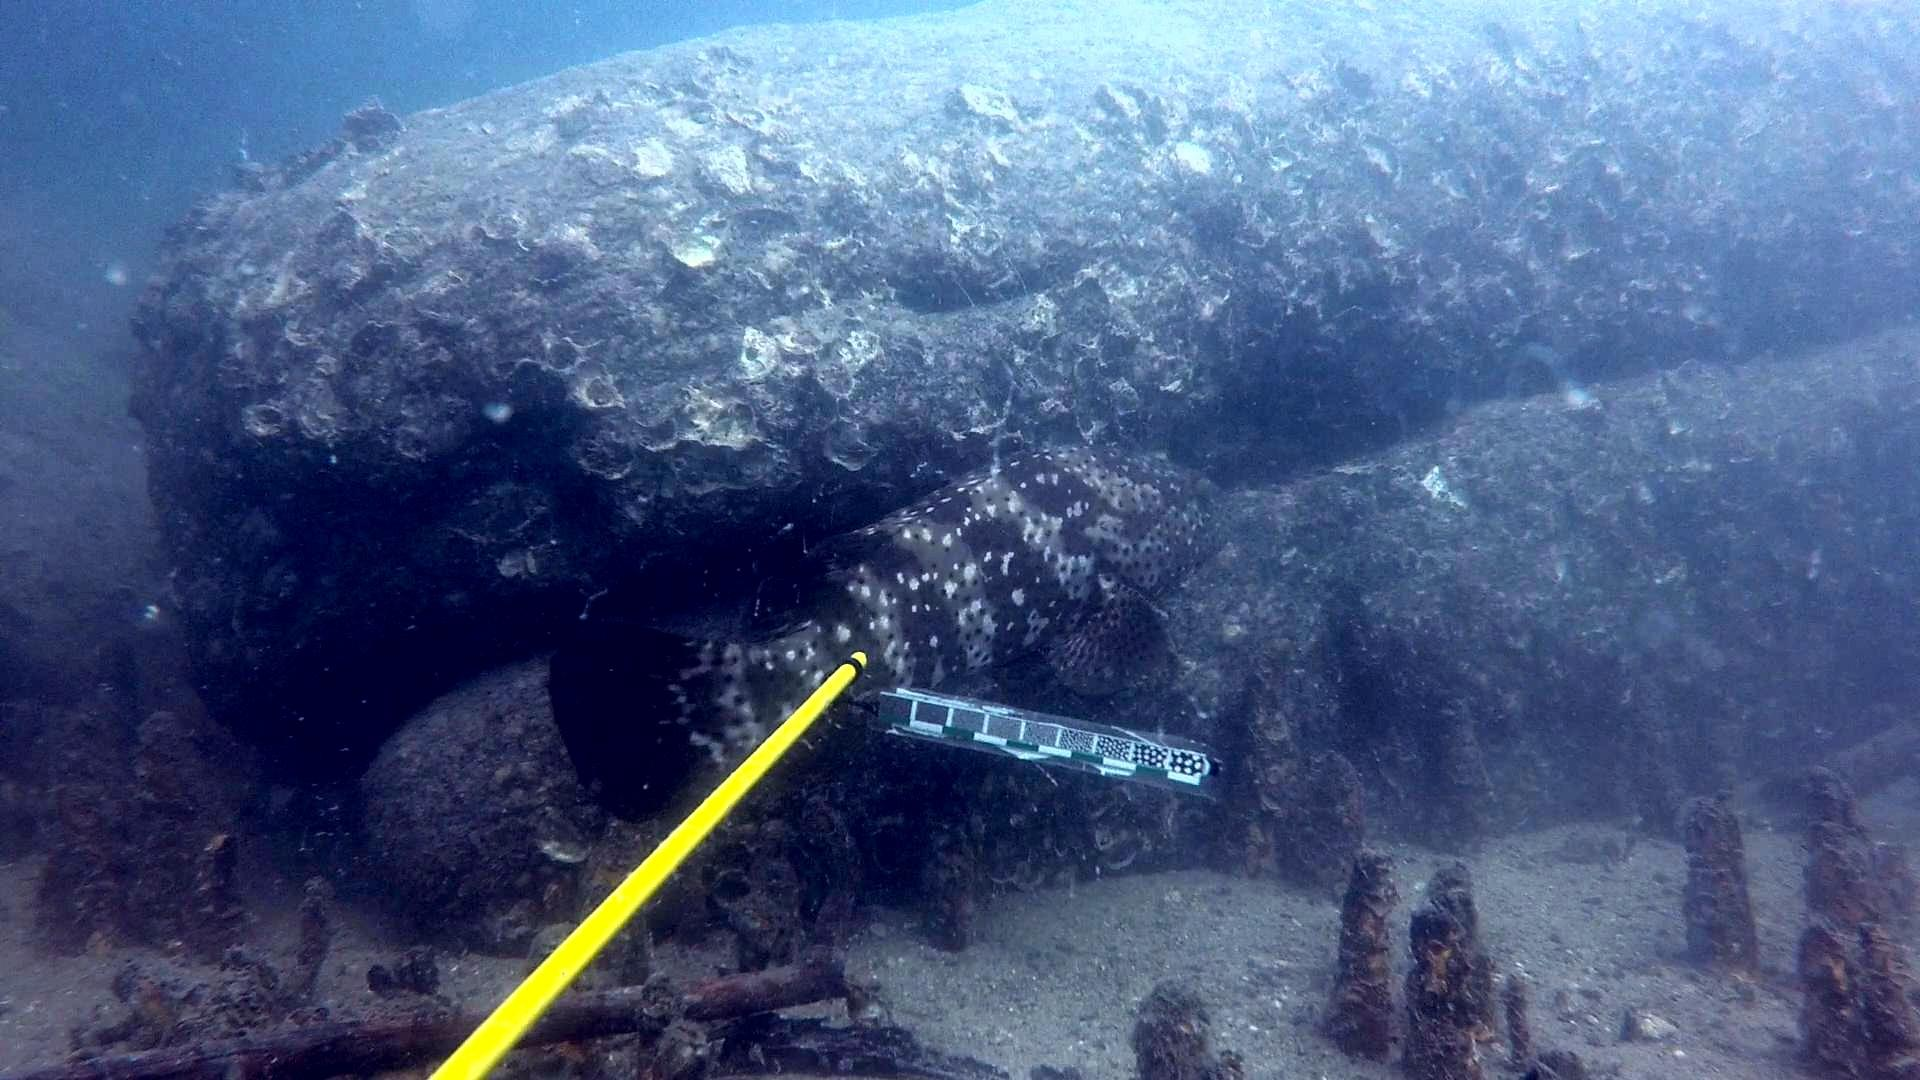epinephelus: (541, 439, 1242, 829)
